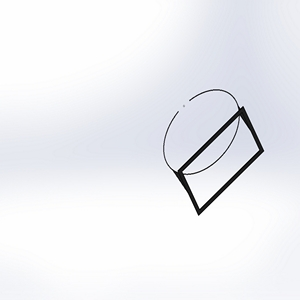circle: (162, 85, 265, 215)
